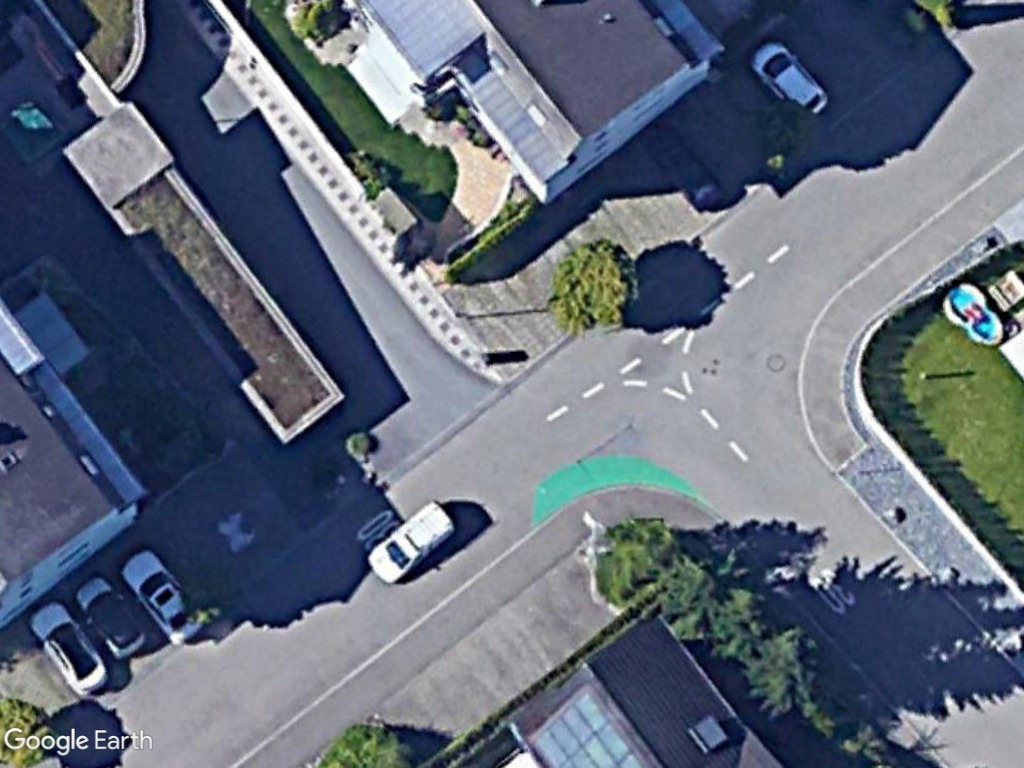car: (119, 549, 208, 648), (24, 602, 112, 698), (362, 497, 456, 586), (748, 37, 832, 117), (73, 576, 151, 659)
